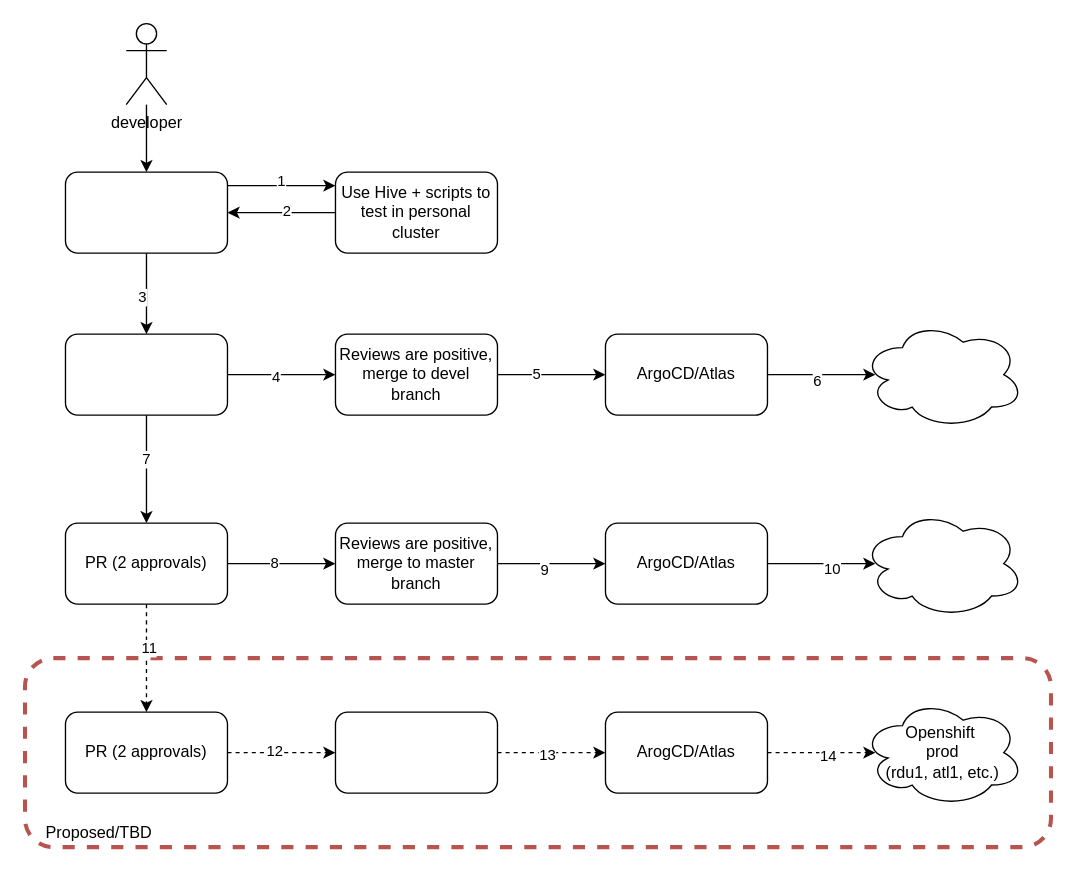
Some shapes in this 1076 by 872 pixel diagram are drawn without their labels. The centre of each missing label's shape, as x and y in pixels:
changes: pixel 145 212
Openshift cluster1: pixel 942 563
Openshift cluster2: pixel 942 374
PR: pixel 145 374
Reviews are positive, merge to master branch w/ "prod" tag: pixel 415 752
